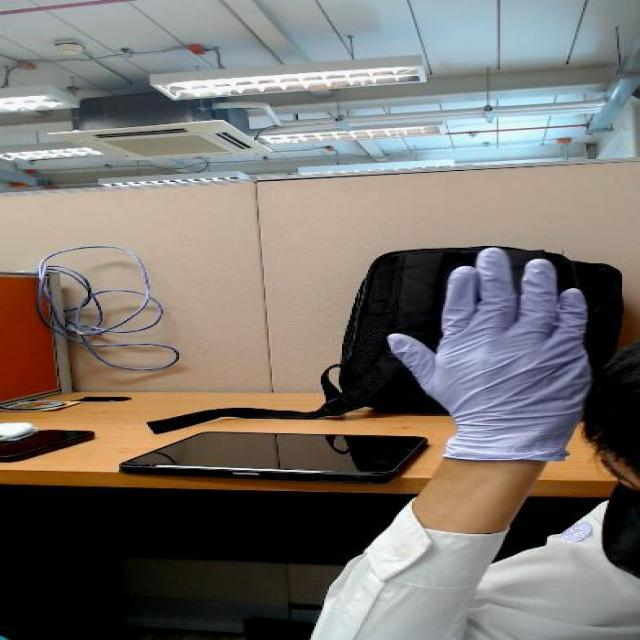Glove: (384, 240, 606, 466)
